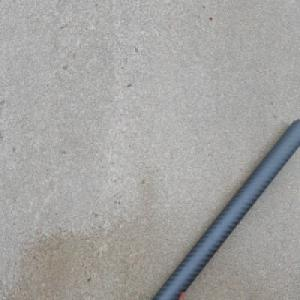LuggagePart: (150, 117, 300, 300)
